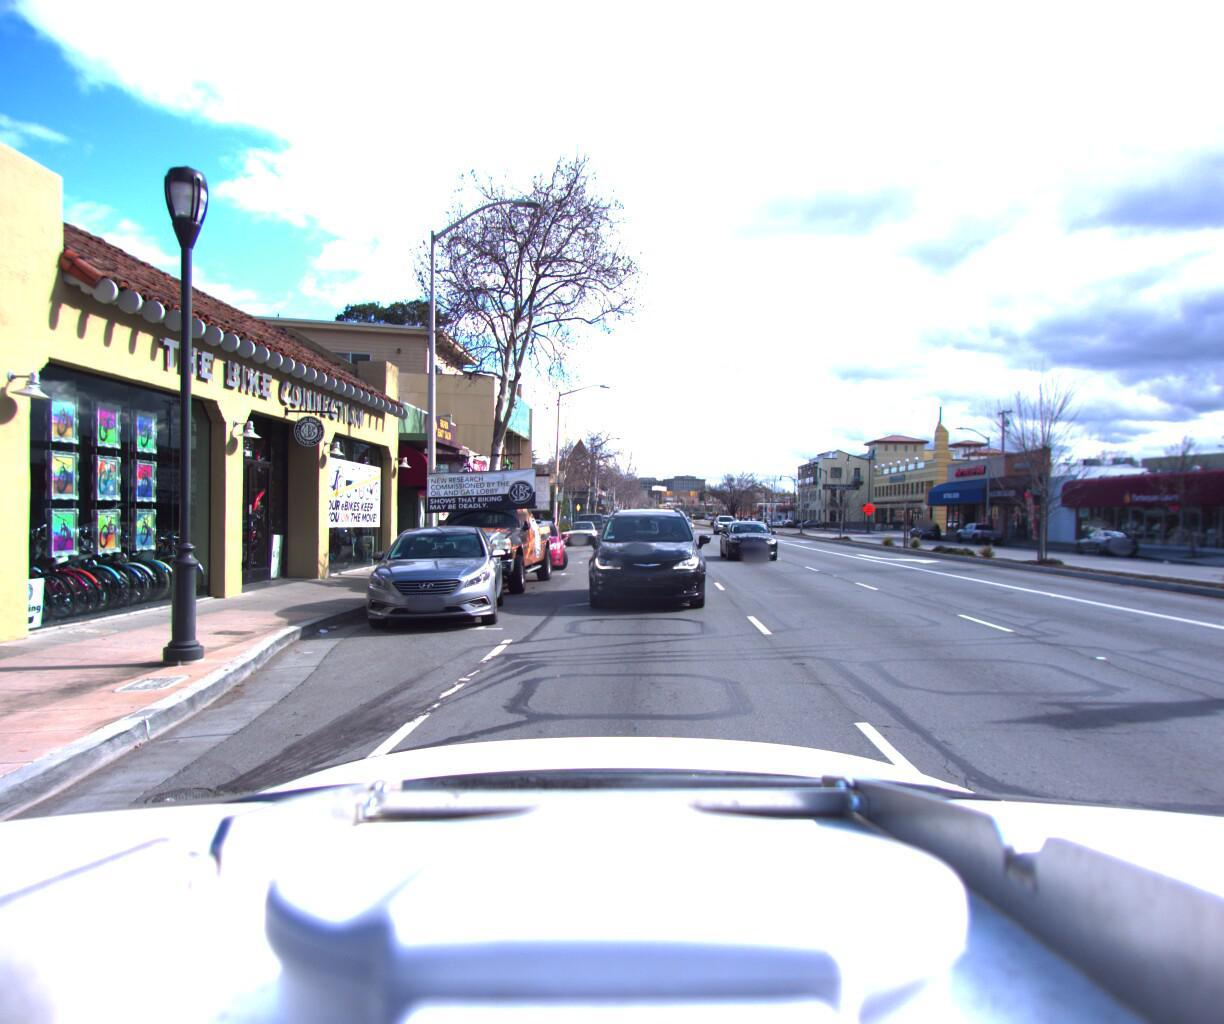car: (414, 445, 560, 596), (358, 519, 501, 636), (586, 505, 702, 619), (508, 514, 569, 571), (722, 517, 787, 565), (1072, 525, 1140, 555), (955, 517, 1008, 542), (571, 508, 608, 541), (565, 517, 598, 544), (906, 517, 945, 537)
